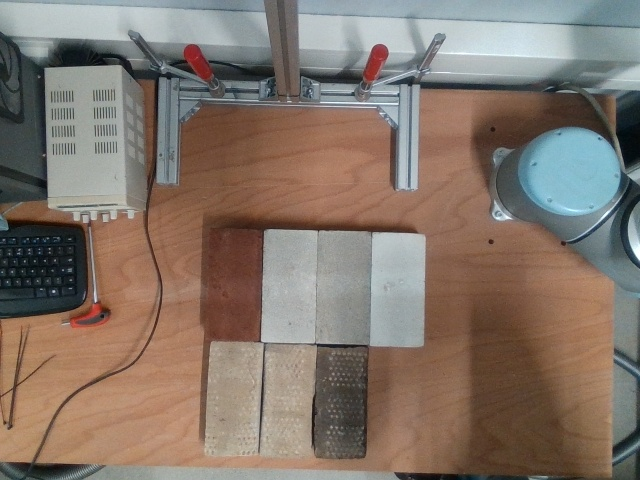brick: (262, 231, 317, 342), (316, 231, 370, 344), (371, 233, 424, 346), (207, 342, 259, 452), (261, 348, 314, 452), (208, 230, 259, 338), (318, 348, 362, 456)
